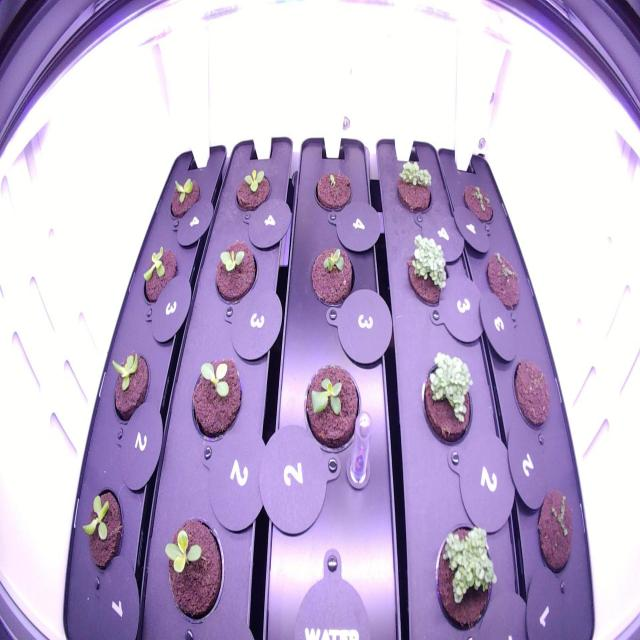germination: (430, 512, 503, 633), (418, 340, 479, 455), (530, 481, 579, 584), (405, 228, 456, 312), (391, 153, 439, 218), (482, 244, 524, 316), (309, 165, 356, 221), (458, 178, 498, 232)
pod: (508, 351, 554, 435)
young: (158, 507, 228, 630), (297, 354, 368, 461), (184, 347, 246, 450), (74, 480, 129, 580), (302, 239, 360, 320), (104, 343, 152, 438), (210, 229, 260, 314), (136, 239, 180, 320), (228, 163, 274, 218), (164, 168, 202, 229)
